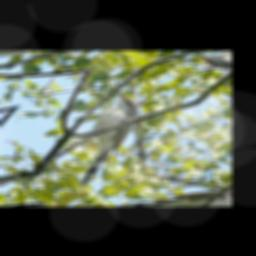Cuckoo: (22, 91, 184, 188)
